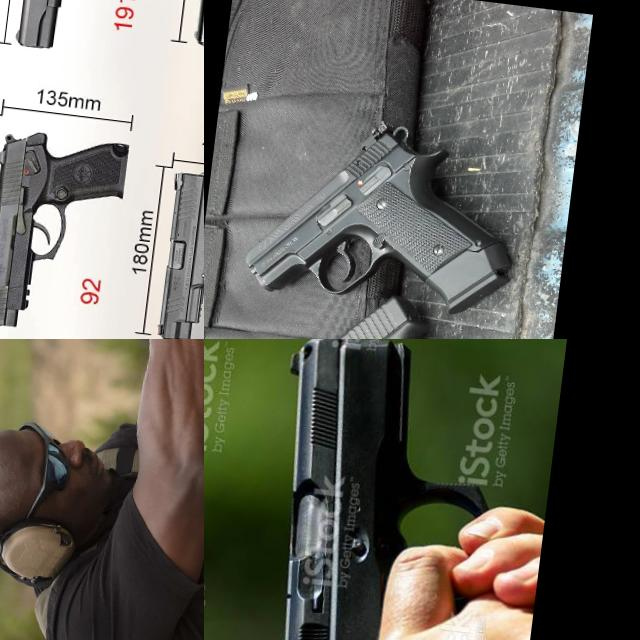handgun: (233, 339, 511, 640), (238, 102, 532, 320), (0, 121, 132, 339), (211, 273, 521, 339), (11, 0, 176, 114), (149, 162, 204, 339), (77, 339, 174, 412)
